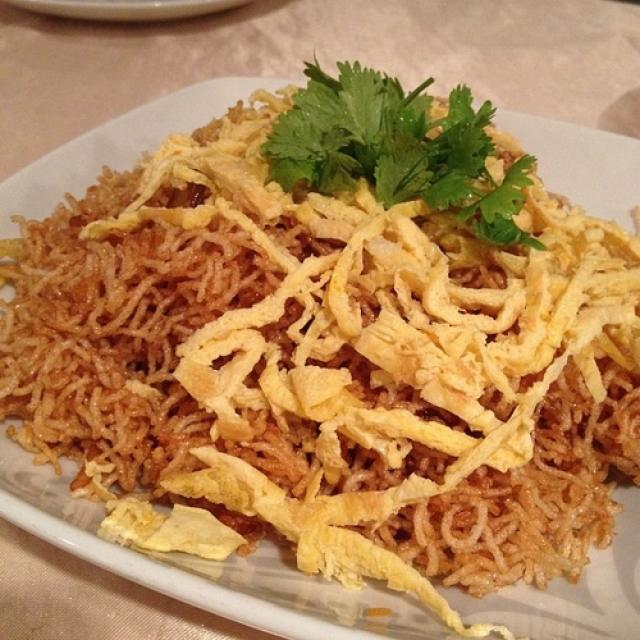面条主食: (26, 84, 613, 621)
